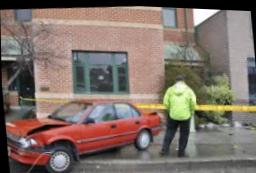Bonnet: (5, 114, 72, 137)
Bumper: (6, 137, 52, 167)
Dickey: (133, 107, 159, 113)
